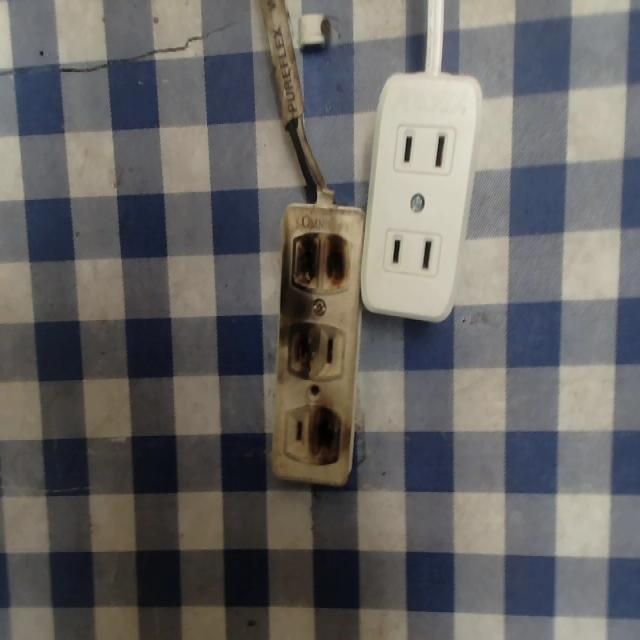-: (285, 231, 352, 301), (304, 404, 348, 472), (280, 320, 317, 385)
